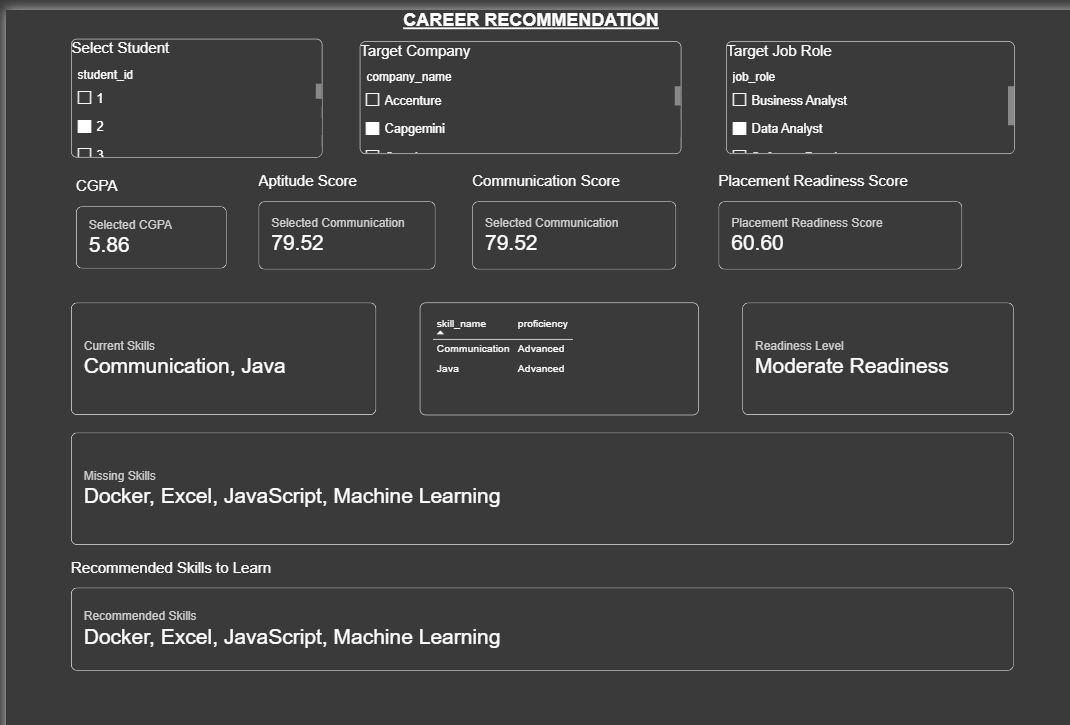

What the dashboard file says about the page in this screenshot:
{"tool":"powerbi","page":{"name":"Career Recommendation","canvas":[1920,1080],"ordinal":1},"visuals":[{"type":"slicer","title":"Select Student","fields":{"Values":["students.student_id"]},"box":[86.9,38,360.1,159.3],"z":0},{"type":"cardVisual","title":"CGPA","fields":{"Data":["students.Selected CGPA"]},"box":[86.9,215.3,280.5,130.3],"z":1},{"type":"cardVisual","title":"Aptitude Score","fields":{"Data":["students.Selected Aptitude"]},"box":[394.5,215.3,264.2,130.3],"z":2},{"type":"cardVisual","title":"Communication Score","fields":{"Data":["students.Selected Communication"]},"box":[685.9,215.3,296.8,130.3],"z":3},{"type":"tableEx","fields":{"Values":["skills.skill_name","student_skills.proficiency"]},"box":[551.9,390.9,349.3,148.4],"z":4},{"type":"slicer","title":"Target Company","fields":{"Values":["company.company_name"]},"box":[492.2,41.6,416.2,150.2],"z":5},{"type":"slicer","title":"Target Job Role","fields":{"Values":["company.job_role"]},"box":[946.5,41.6,398.1,150.2],"z":6},{"type":"cardVisual","title":"Placement Readiness Score","fields":{"Data":["students.Placement Readiness Score"]},"box":[1002.6,215.3,342,130.3],"z":8},{"type":"cardVisual","fields":{"Data":["students.Readiness Level"]},"box":[946.5,390.9,398.1,148.4],"z":9},{"type":"cardVisual","title":"Recommended Skills to Learn","fields":{"Data":["skills.Recommended Skills"]},"box":[87,731,1257,150],"z":10},{"type":"textbox","box":[1320.5,46,159,150],"z":11},{"type":"textbox","box":[0,0,1400,37],"z":12},{"type":"cardVisual","fields":{"Data":["skills.Current Skills"]},"box":[86.9,390.9,447,148.4],"z":13},{"type":"cardVisual","fields":{"Data":["skills.Missing Skills"]},"box":[87,563,1257,150],"z":14}]}

Visuals, with their boxes on the page's 1920x1080 design canvas (x1, y1, x2, y2). These are canvas units, not pixel positions in the 1070x725 screenshot, which may show the page scaled, cropped or inside an application window:
"Select Student" slicer: [87,38,447,197]
"CGPA" cardVisual: [87,215,367,346]
"Aptitude Score" cardVisual: [394,215,659,346]
"Communication Score" cardVisual: [686,215,983,346]
tableEx - skills.skill_name x student_skills.proficiency: [552,391,901,539]
"Target Company" slicer: [492,42,908,192]
"Target Job Role" slicer: [946,42,1345,192]
"Placement Readiness Score" cardVisual: [1003,215,1345,346]
cardVisual - students.Readiness Level: [946,391,1345,539]
"Recommended Skills to Learn" cardVisual: [87,731,1344,881]
textbox: [1320,46,1480,196]
textbox: [0,0,1400,37]
cardVisual - skills.Current Skills: [87,391,534,539]
cardVisual - skills.Missing Skills: [87,563,1344,713]
